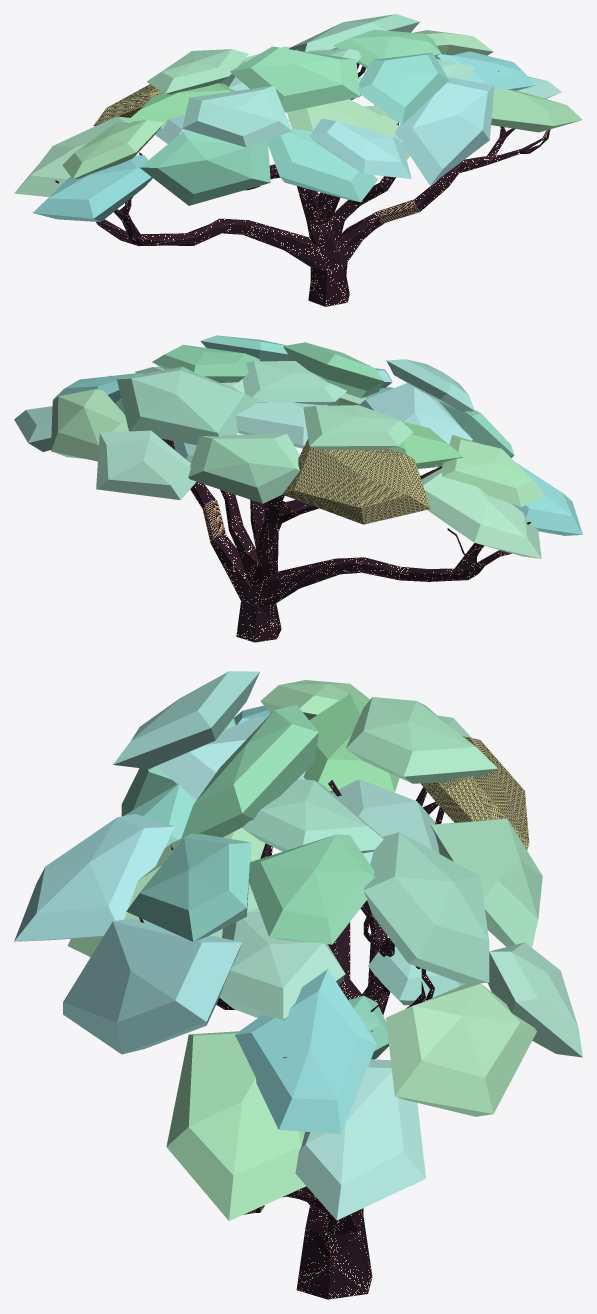
Rendered from LPTree_Tree_Type0_04_Model_balanced_instanced_l1_superhigh.glb.
3 renders of one model, top to bottom at view 1: azimuth 30°, elevation 25°; view 2: azimuth 150°, elevation 25°; view 3: azimuth 270°, elevation 25°, orthographic. The views are drawn at different scales.
Parts seen in each view (by area): view 1: Tree Type0 04 Model; view 2: Tree Type0 04 Model; view 3: Tree Type0 04 Model.
Boxes of the visible parts, bbox=[...] form: Tree Type0 04 Model: bbox=[14, 14, 582, 306]; Tree Type0 04 Model: bbox=[14, 335, 582, 642]; Tree Type0 04 Model: bbox=[14, 671, 582, 1299].
Bounding box in the file's own units: 7.72 × 3.75 × 3.84.
29 materials, 1 textured.
